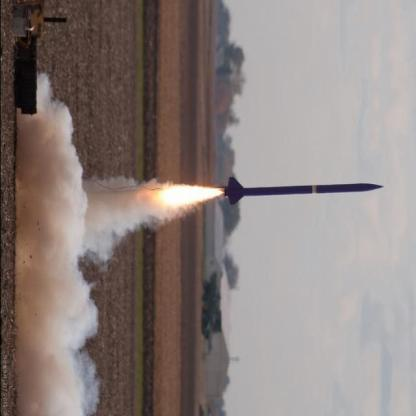MIL_TBM: (222, 182, 383, 207)
